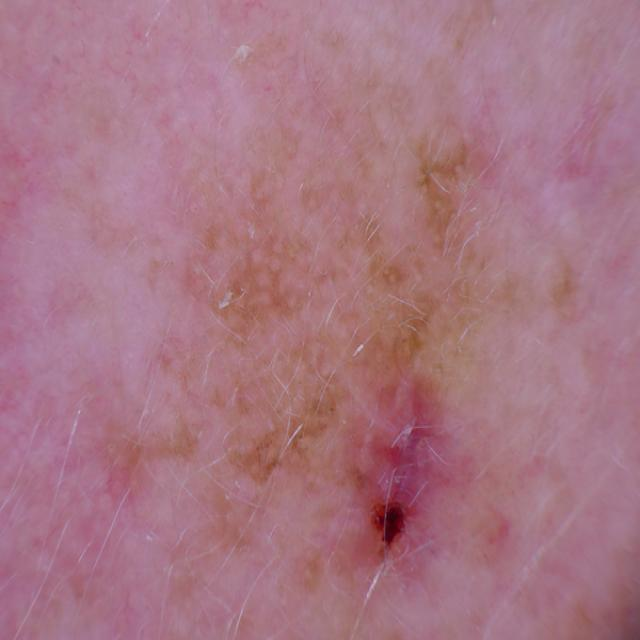Skin-Cancer Pigmented benign keratosis: (18, 26, 640, 640)
